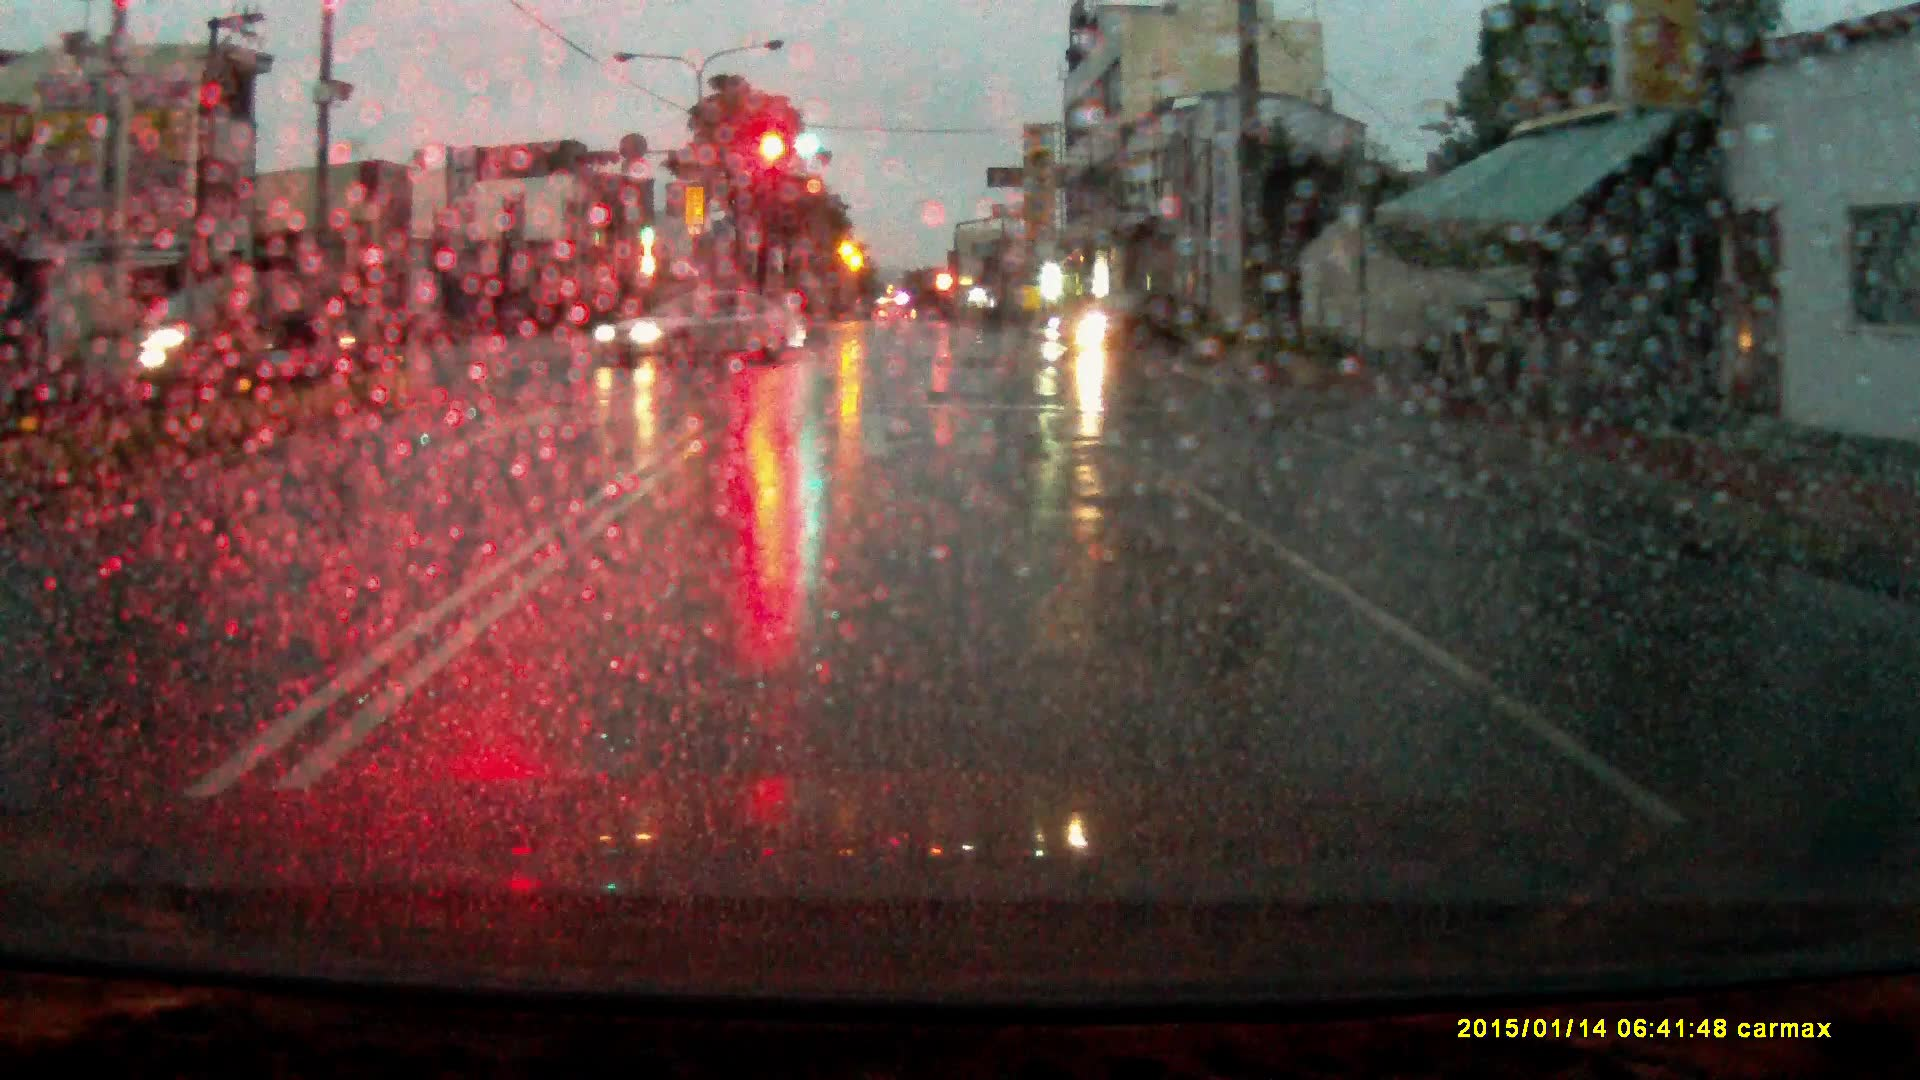vehicle: (113, 269, 376, 377), (591, 284, 811, 367), (1050, 294, 1218, 355)
